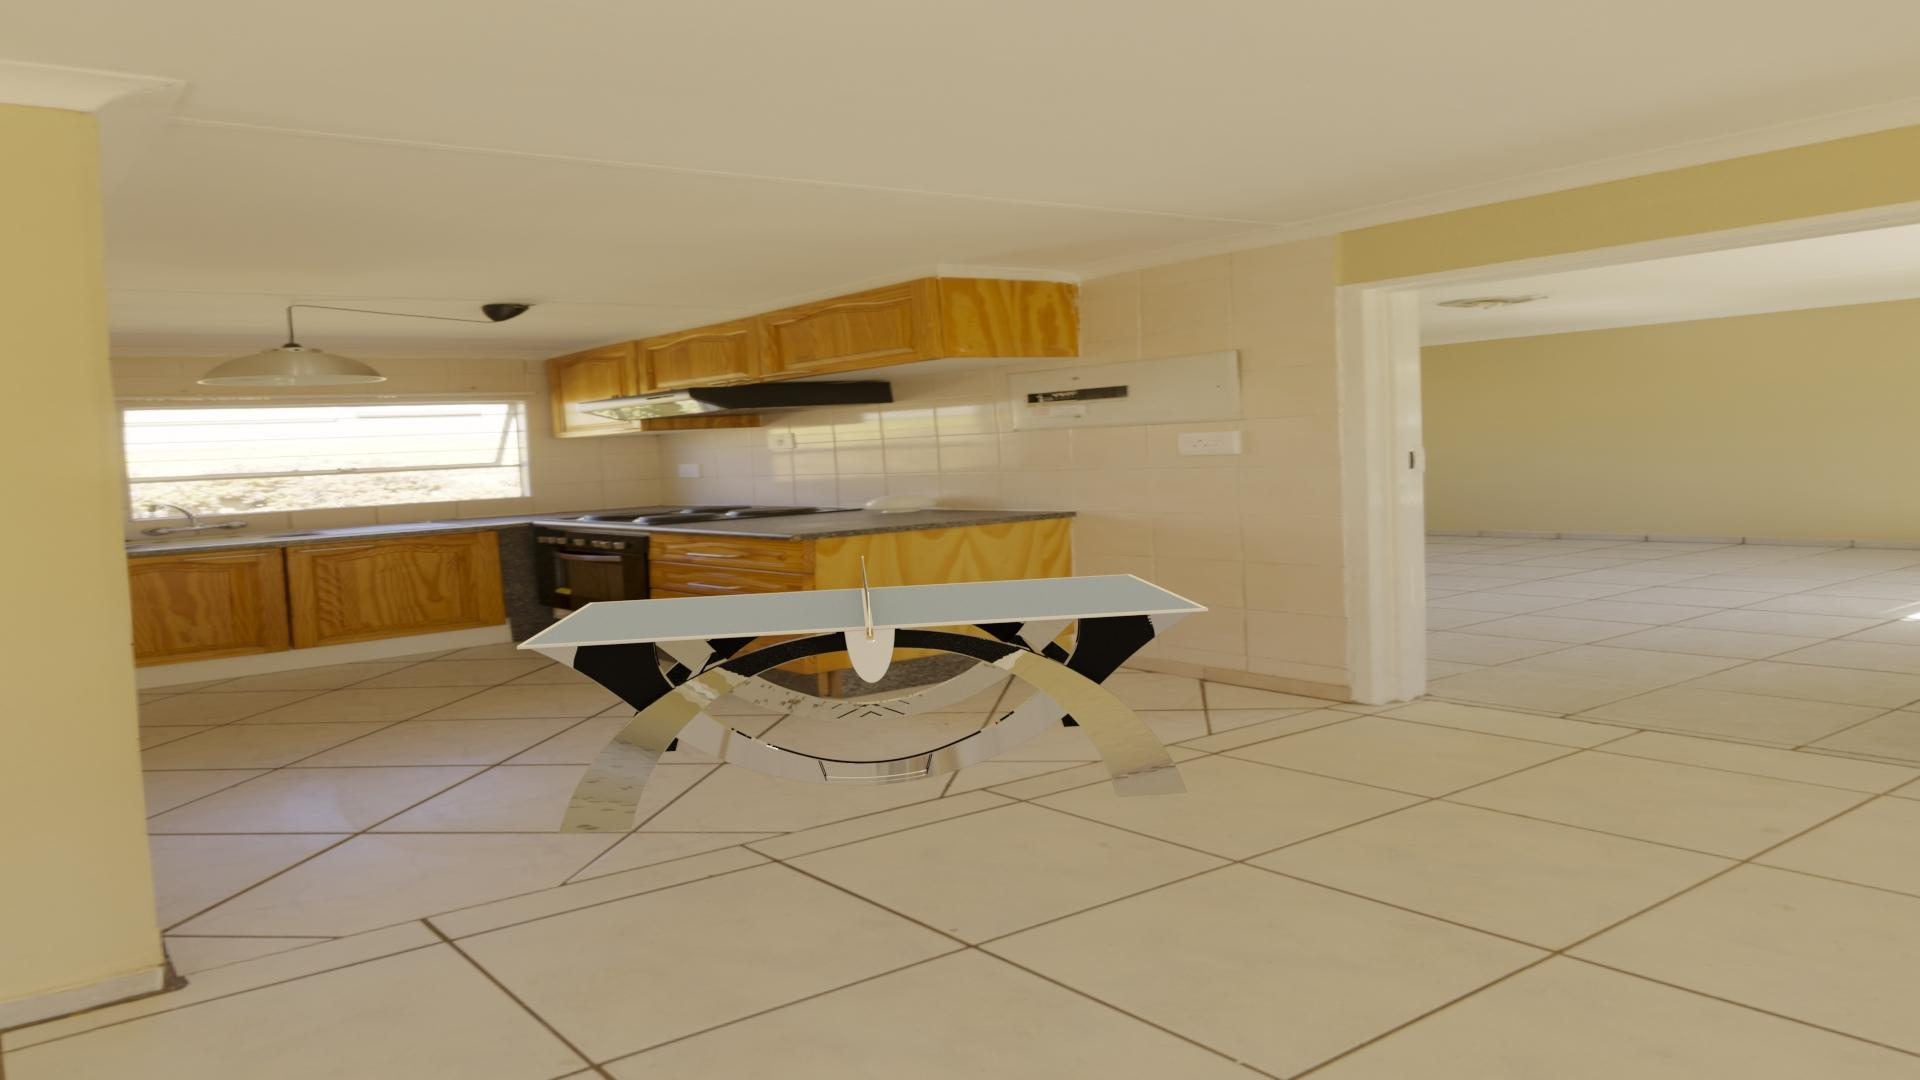table: (524, 575, 1203, 646)
